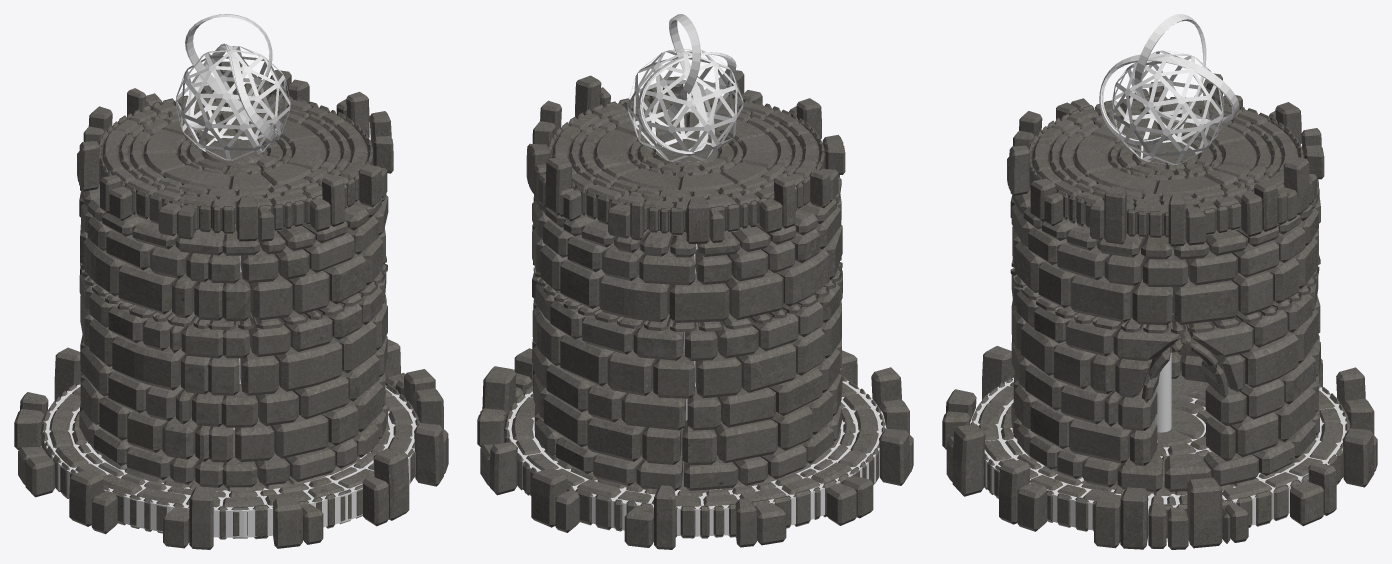
File: tower 4.fbx
3 views of the same model, side by side, from view 1: azimuth 30°, elevation 25°; view 2: azimuth 150°, elevation 25°; view 3: azimuth 270°, elevation 25° (orthographic).
Visible parts, largest first — view 1: Wall.008, Wall.009, Wall.005, Icosphere.003, Circle.004, TorusKnot; view 2: Wall.008, Wall.009, Wall.005, Icosphere.003, Circle.004, TorusKnot; view 3: Wall.008, Wall.009, Wall.005, Icosphere.003, TorusKnot, Circle.004, Cylinder.003.
Boxes of the visible parts, <box> form: Wall.008: <box>79,184,388,490</box>; Wall.009: <box>77,61,393,241</box>; Wall.005: <box>14,339,448,549</box>; Icosphere.003: <box>176,46,290,160</box>; Circle.004: <box>42,384,416,537</box>; TorusKnot: <box>185,14,276,140</box>; Wall.008: <box>532,168,842,492</box>; Wall.009: <box>526,70,845,243</box>; Wall.005: <box>477,348,913,549</box>; Icosphere.003: <box>627,49,743,162</box>; Circle.004: <box>505,380,886,536</box>; TorusKnot: <box>638,14,736,153</box>; Wall.008: <box>1010,179,1320,493</box>; Wall.009: <box>1007,73,1324,246</box>; Wall.005: <box>942,346,1377,549</box>; Icosphere.003: <box>1111,50,1224,165</box>; TorusKnot: <box>1099,14,1239,145</box>; Circle.004: <box>970,377,1346,535</box>; Cylinder.003: <box>1151,352,1171,432</box>.
Size of the model in its own units: 2070 by 2341 by 2065.
